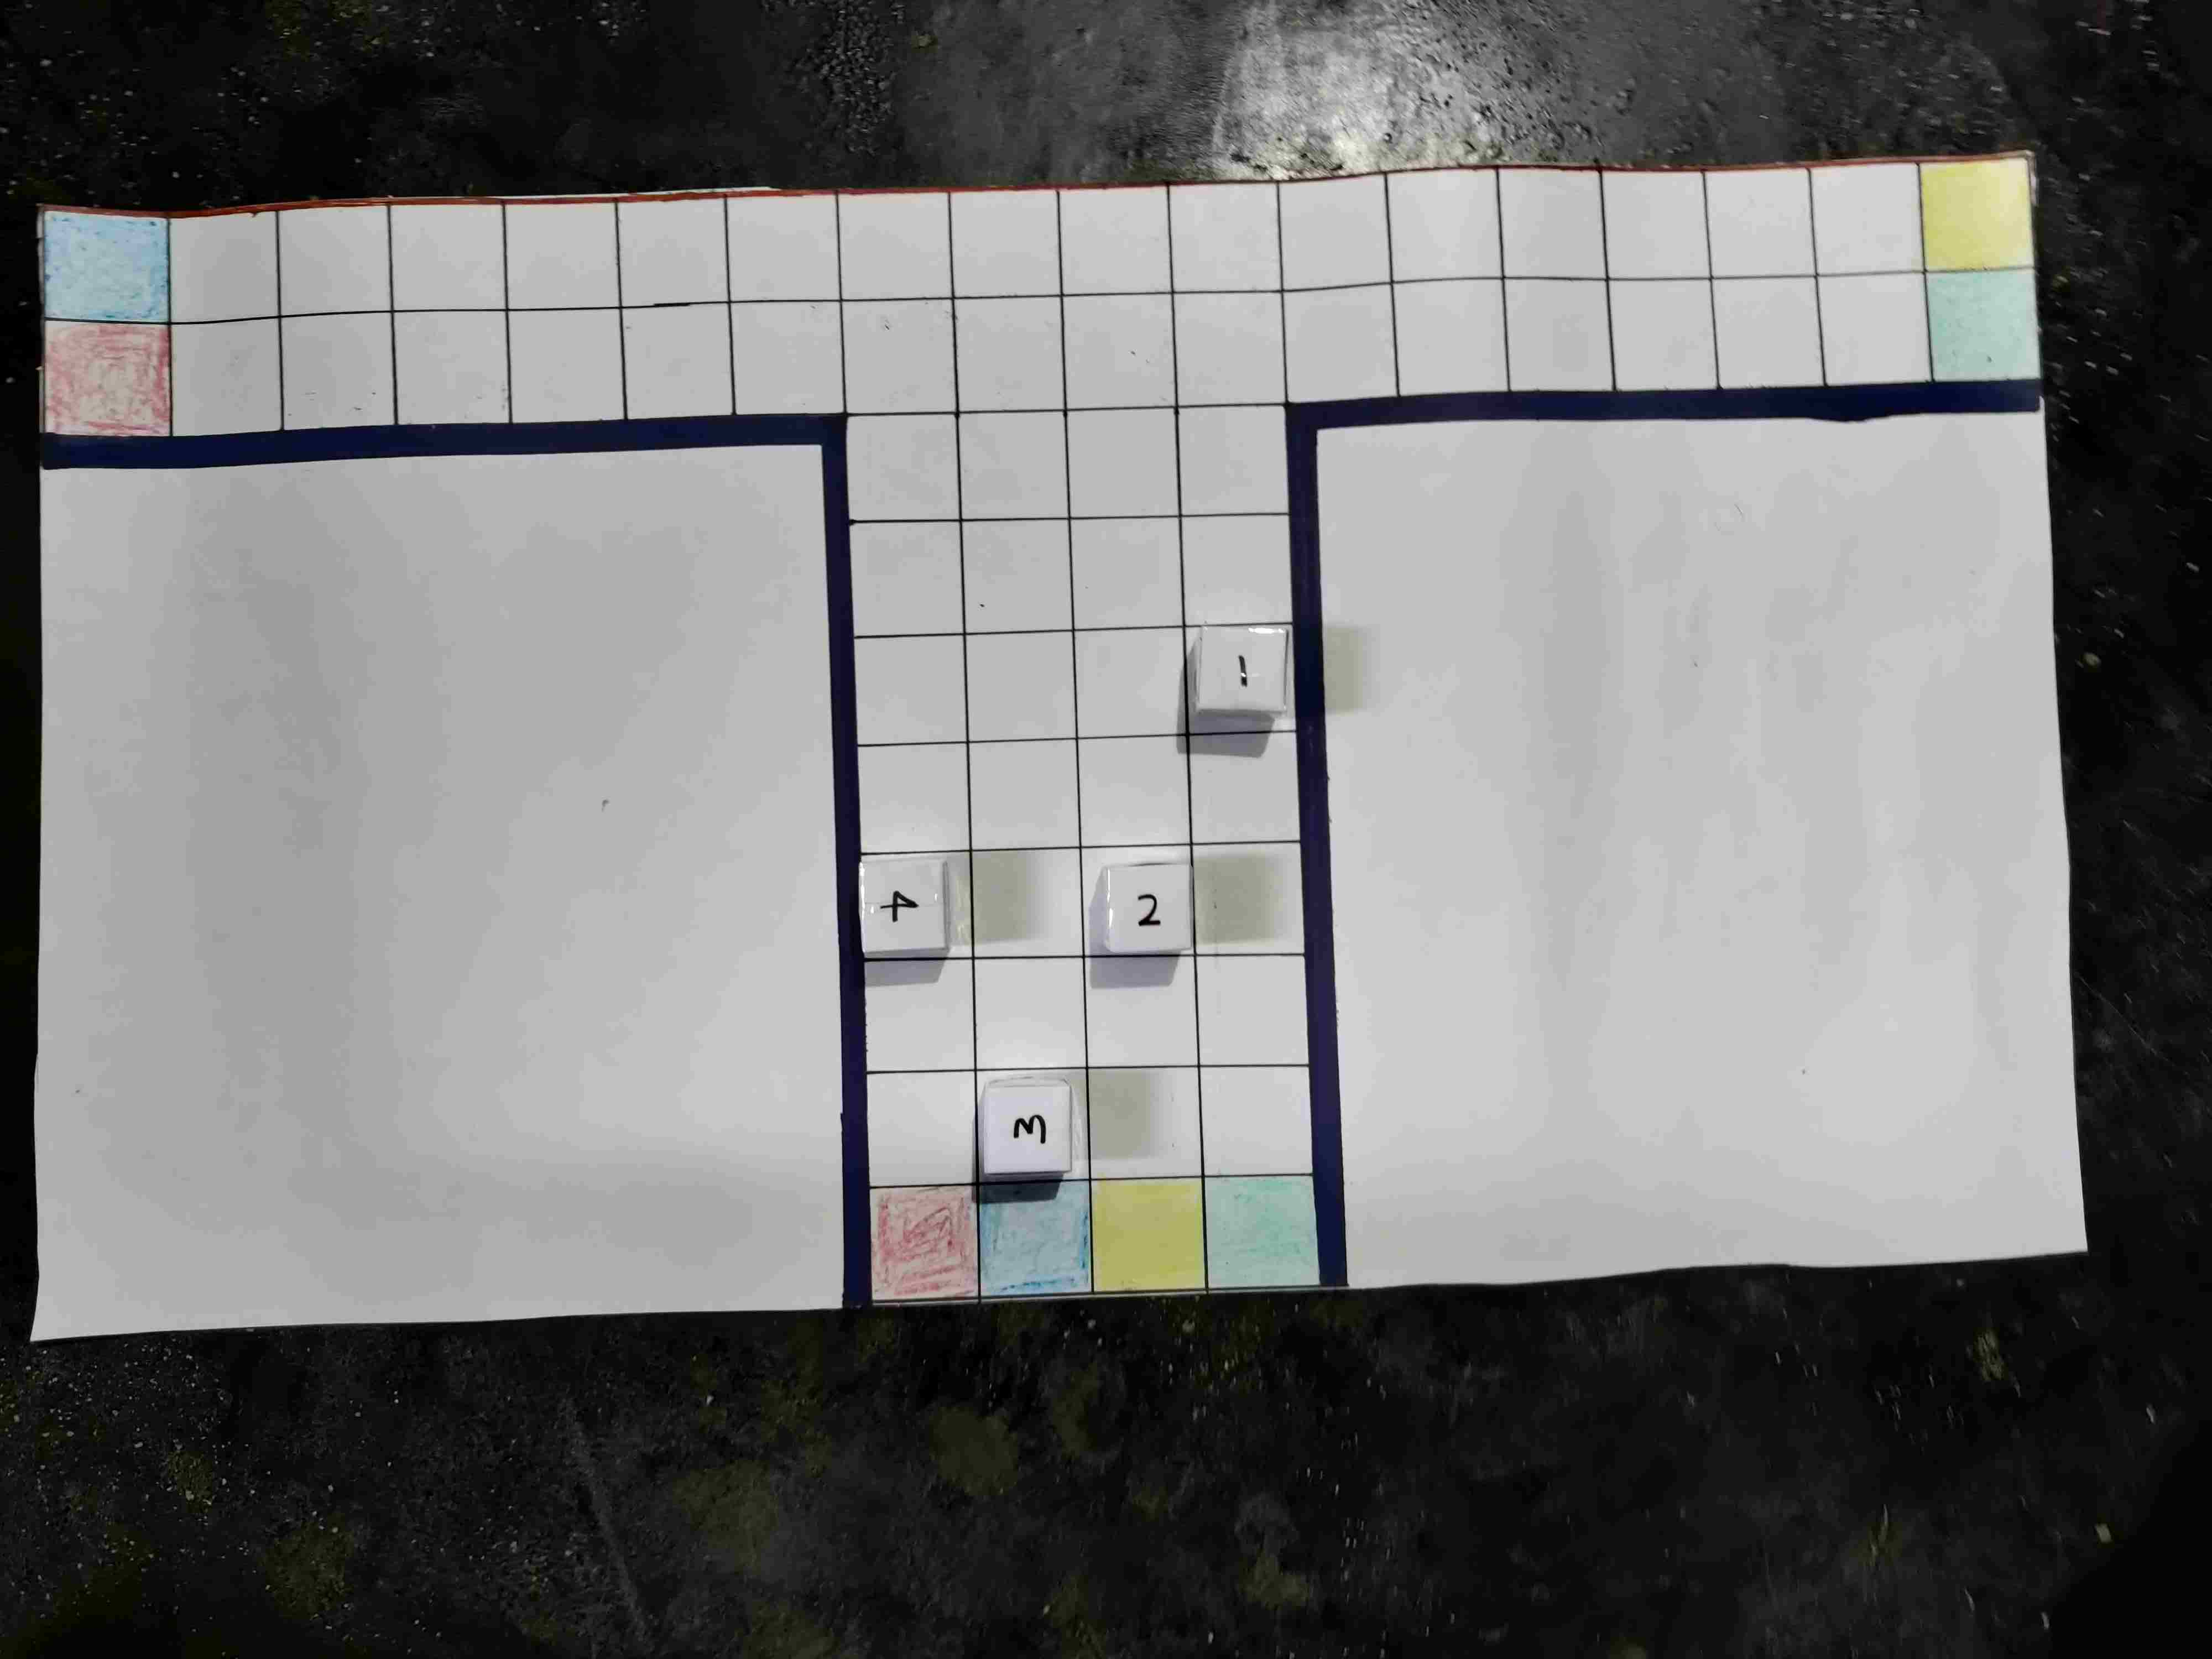arena: (185, 333, 2116, 1391)
bot: (2017, 1190, 2106, 1279), (1144, 1209, 1231, 1297), (1019, 559, 1104, 645), (916, 432, 998, 519)
